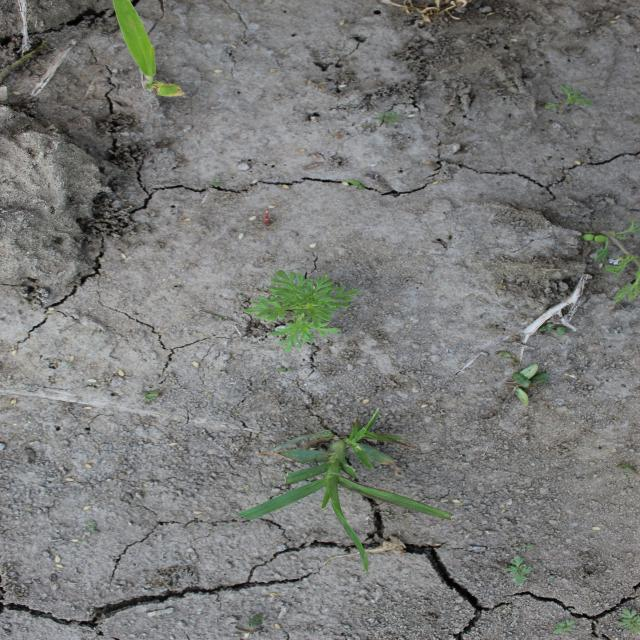Goosegrass: (234, 407, 456, 576)
Ragweed: (240, 268, 361, 356)
